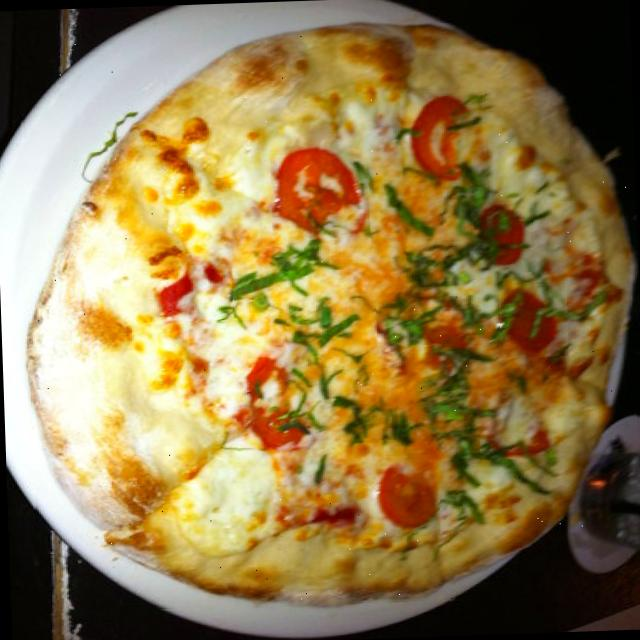basil: (230, 242, 343, 320), (413, 344, 496, 441), (306, 366, 394, 442), (367, 180, 441, 242), (374, 292, 449, 346), (404, 241, 476, 297), (284, 311, 364, 358)
pepperoni: (268, 141, 367, 240), (398, 88, 485, 189), (234, 353, 322, 451), (136, 248, 230, 323), (365, 454, 438, 536), (495, 282, 566, 358), (477, 398, 561, 460), (472, 200, 532, 274)
pizza: (28, 26, 630, 603)
